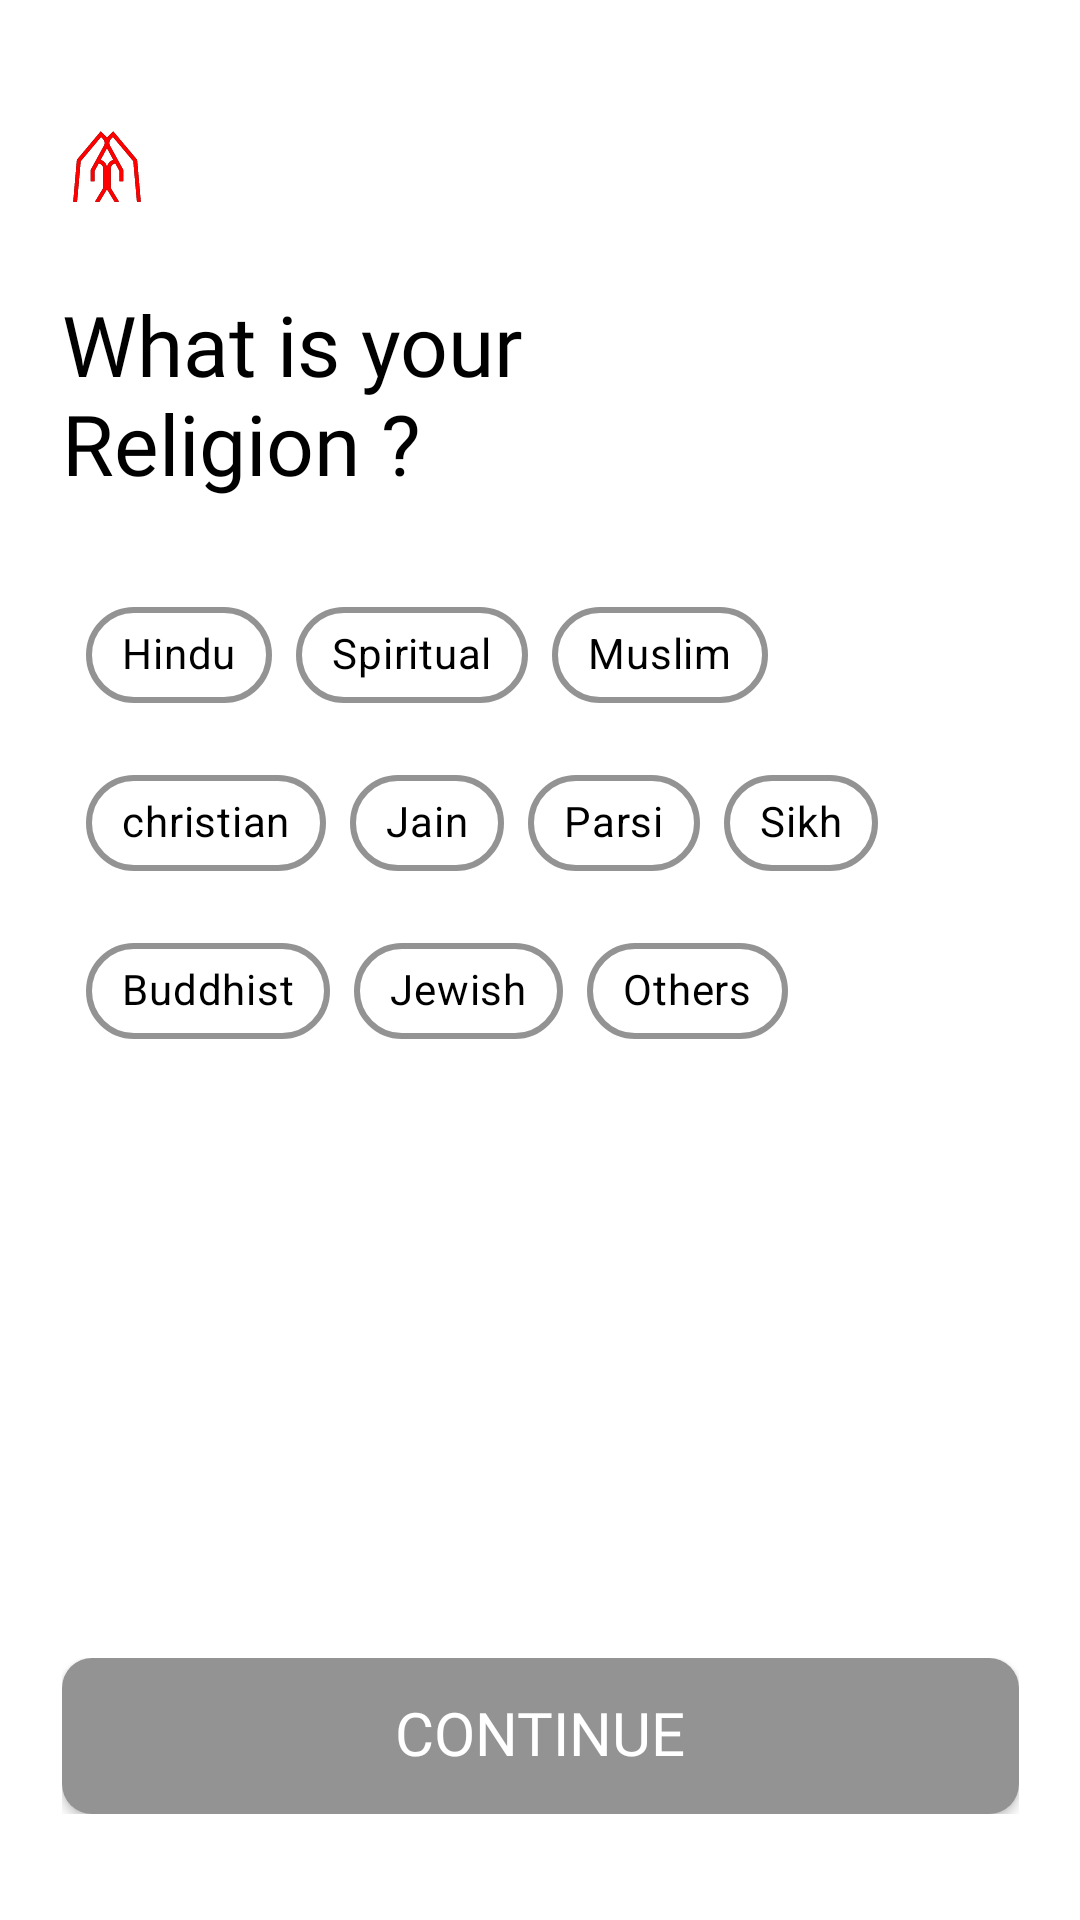

Icons on this 1080w x 1920h Android screen, each with its box as (x1, y1, x2, y2):
religion hands: (73, 131, 141, 202)
